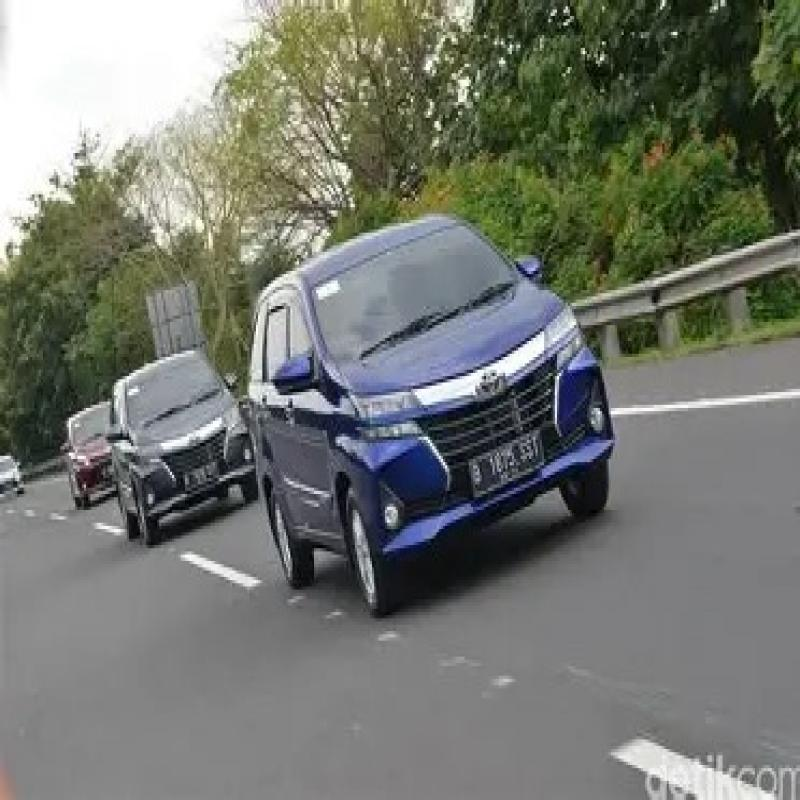license plate on a car: (470, 430, 545, 499), (185, 460, 220, 493)
